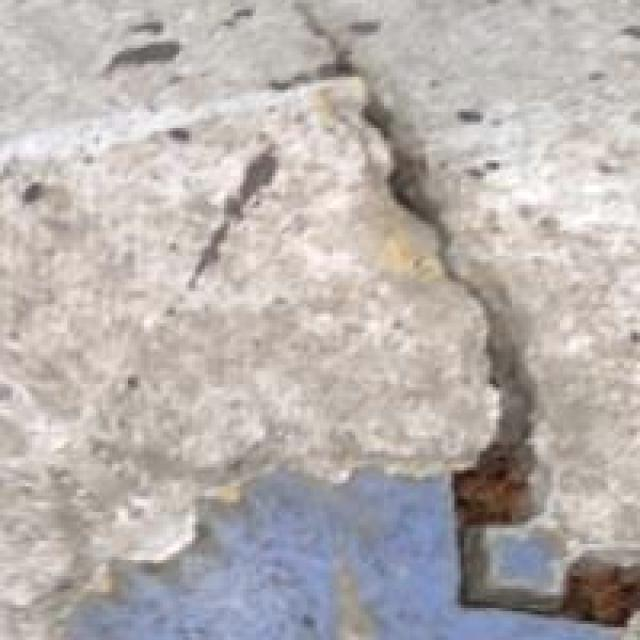SurfaceCrack: (282, 50, 640, 620)
